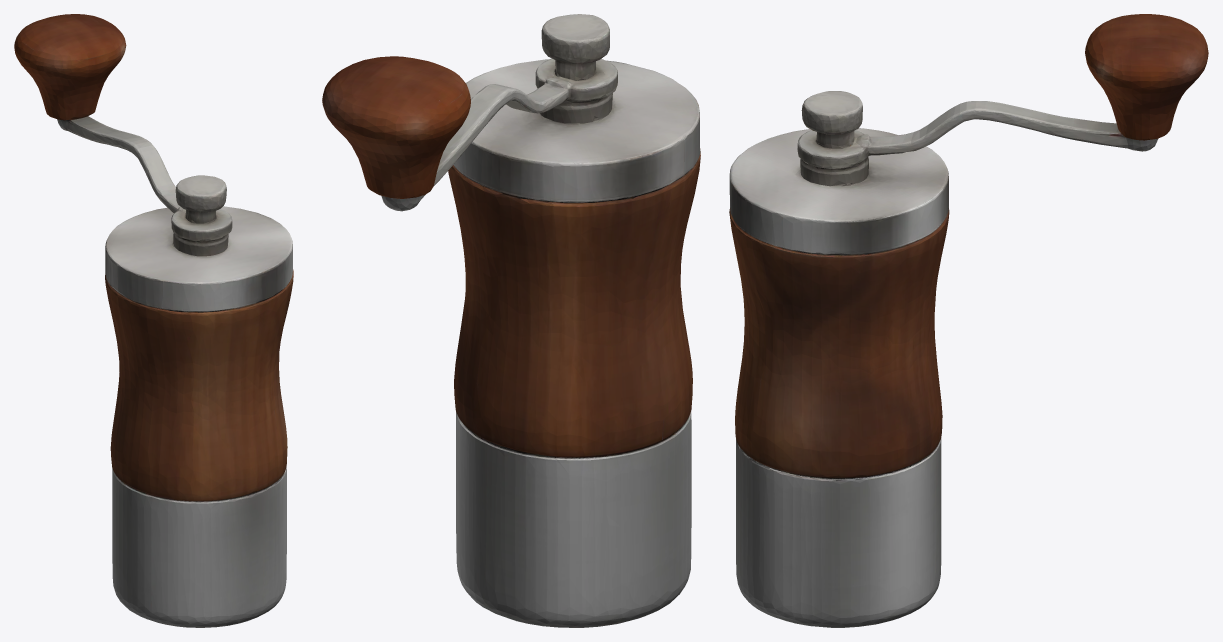
File: grinder.glb
3 renders of one model, left to right at view 1: azimuth 30°, elevation 25°; view 2: azimuth 150°, elevation 25°; view 3: azimuth 270°, elevation 25°, orthographic. The views are drawn at different scales.
Parts seen in each view (by area): view 1: geometry_0; view 2: geometry_0; view 3: geometry_0.
Boxes of the visible parts, bbox=[...] form: geometry_0: bbox=[14, 14, 293, 627]; geometry_0: bbox=[322, 14, 700, 627]; geometry_0: bbox=[729, 14, 1208, 627].
Bounding box in the file's own units: 0.3633 × 0.9999 × 0.7731.
Materials: 1 (1 with a texture image).
